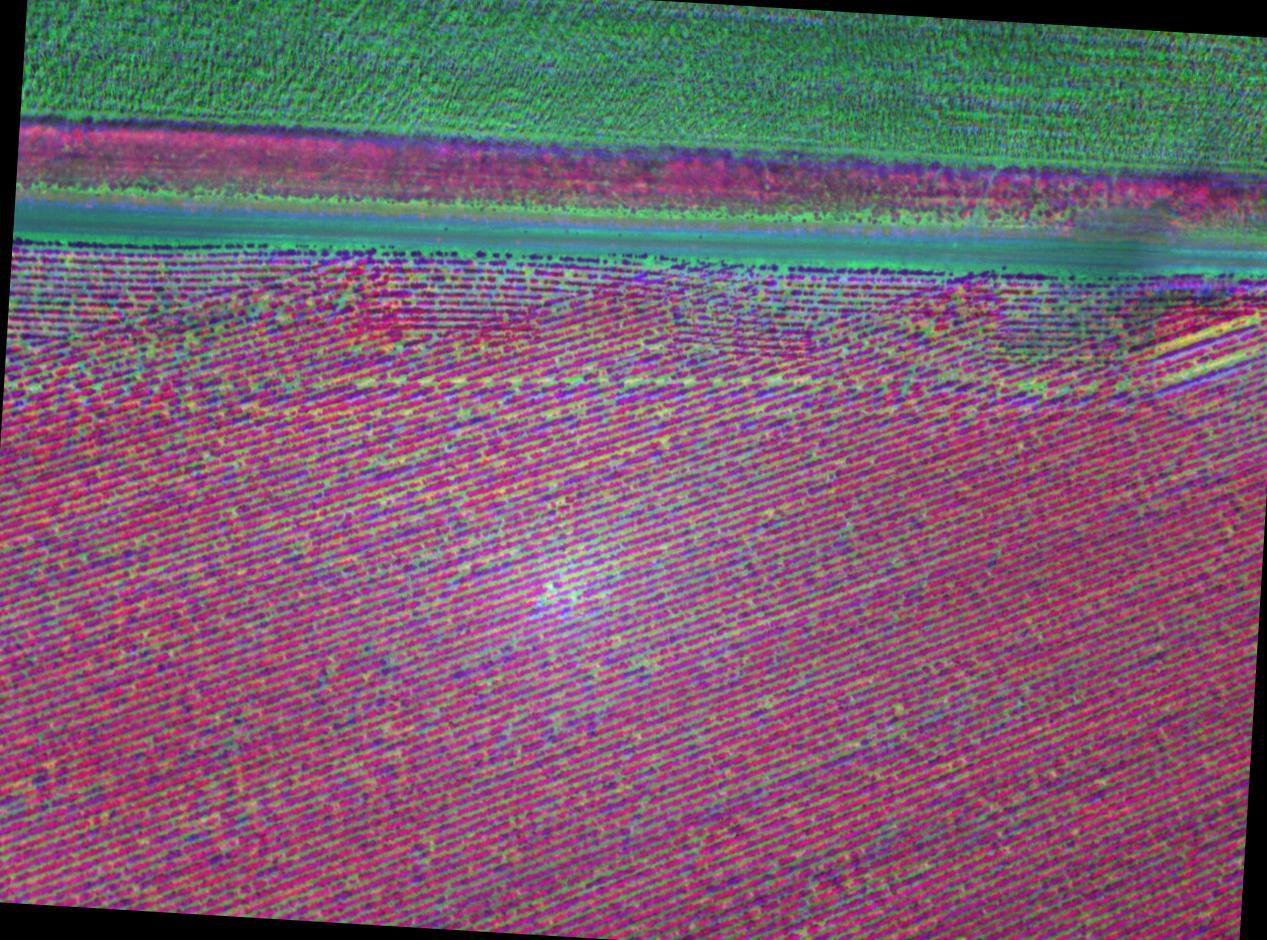dc: (1119, 383, 1127, 389), (548, 584, 553, 593), (186, 385, 190, 391)
